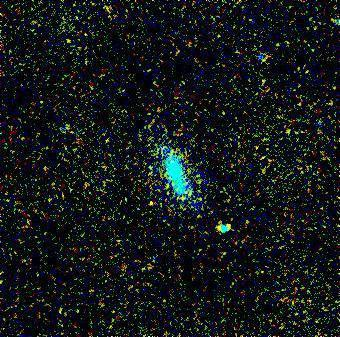star: (239, 130, 269, 160)
